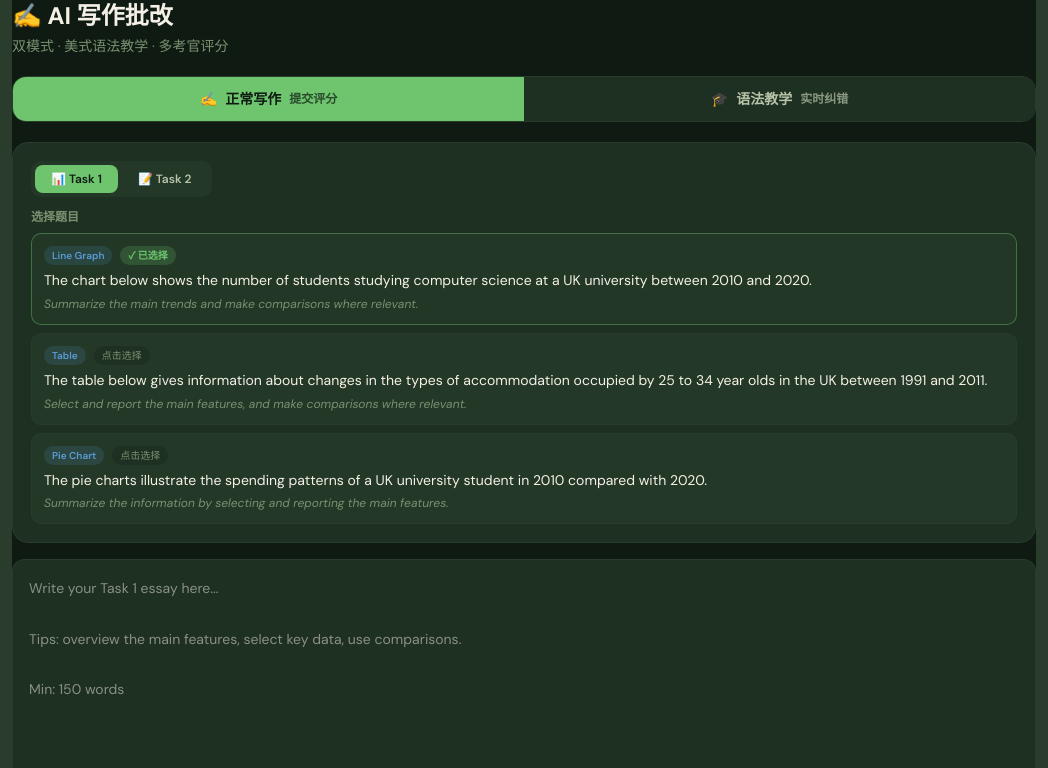
Writing - Teaching Mode Grammar Analysis › switches to teaching mode and shows grammar tips
Click the text "语法教学" at coordinates (764, 99), box [736,89,792,109]
(page scrolled)
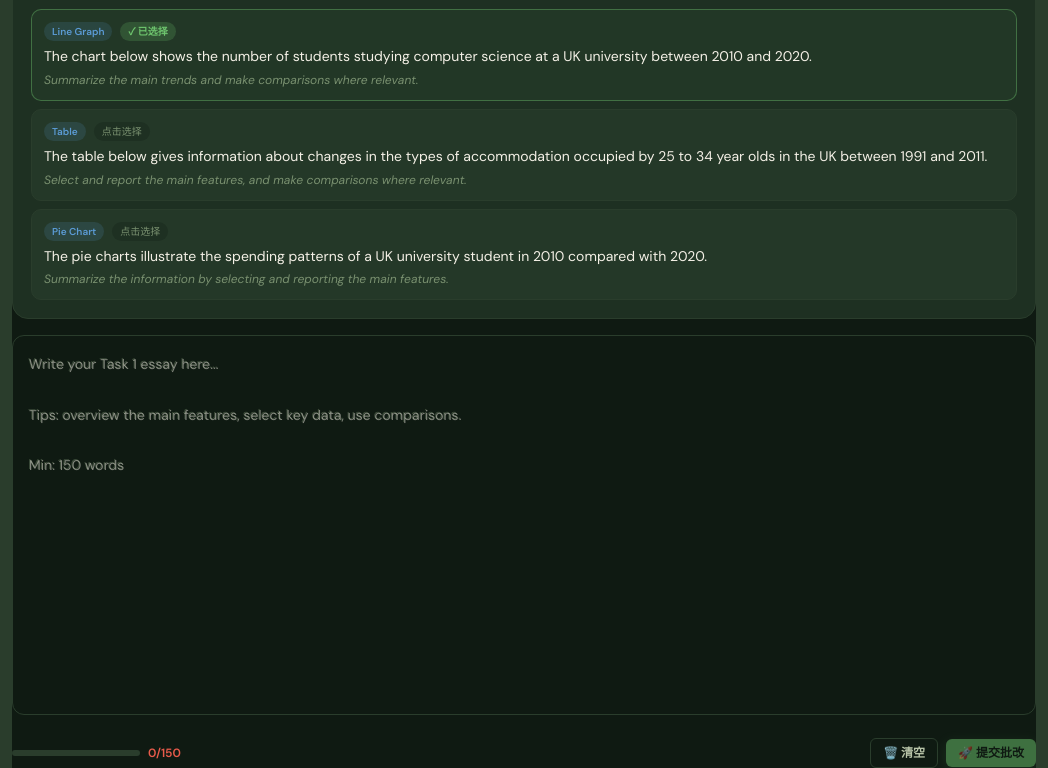
Replace the text in the text box with "He have a problem. The graph show the number." at coordinates (524, 525), box [12,335,1036,715]
(page scrolled)
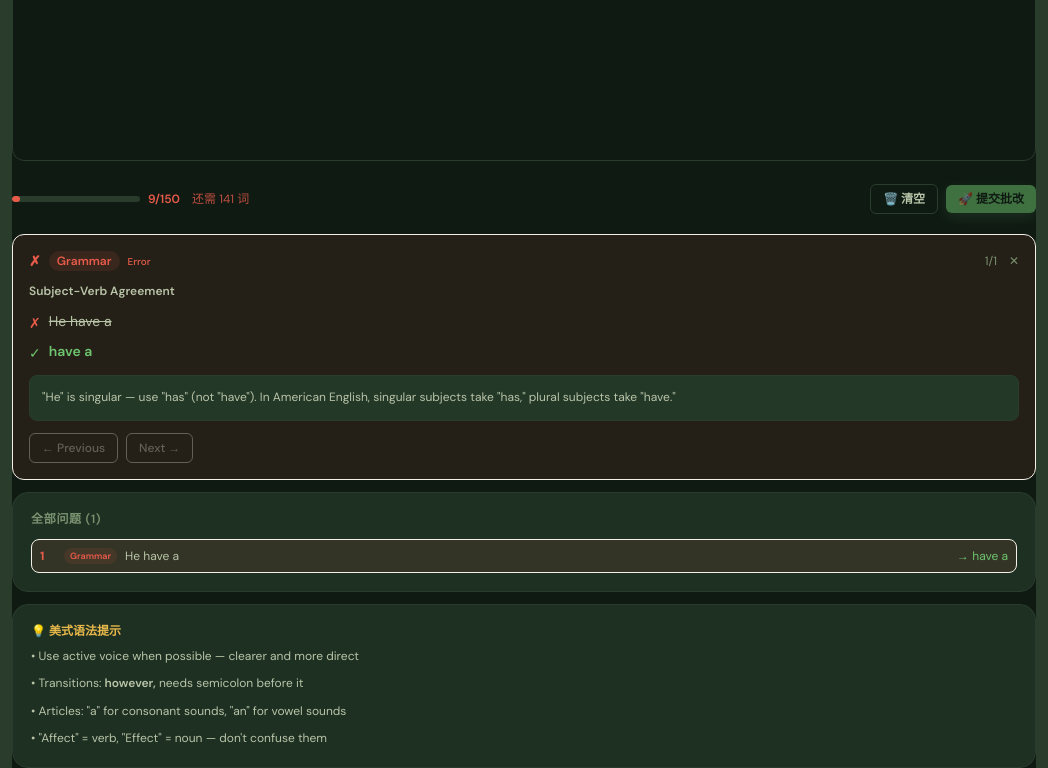
Result: the heading "💡 美式语法提示" is shown at [31,623,121,639]
